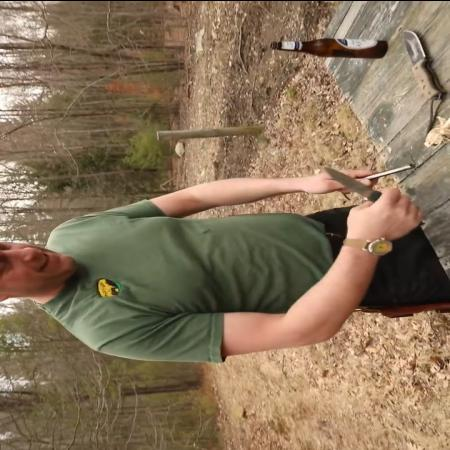long weapon: (314, 160, 424, 228)
